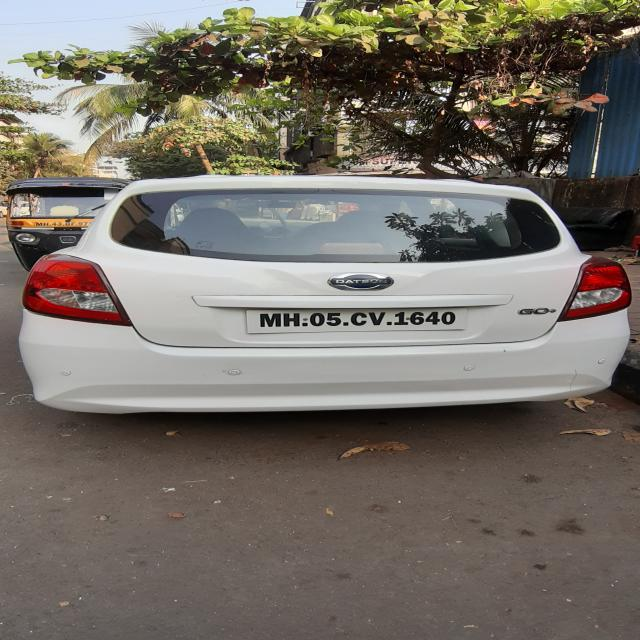Number-Plate: (245, 311, 462, 330)
